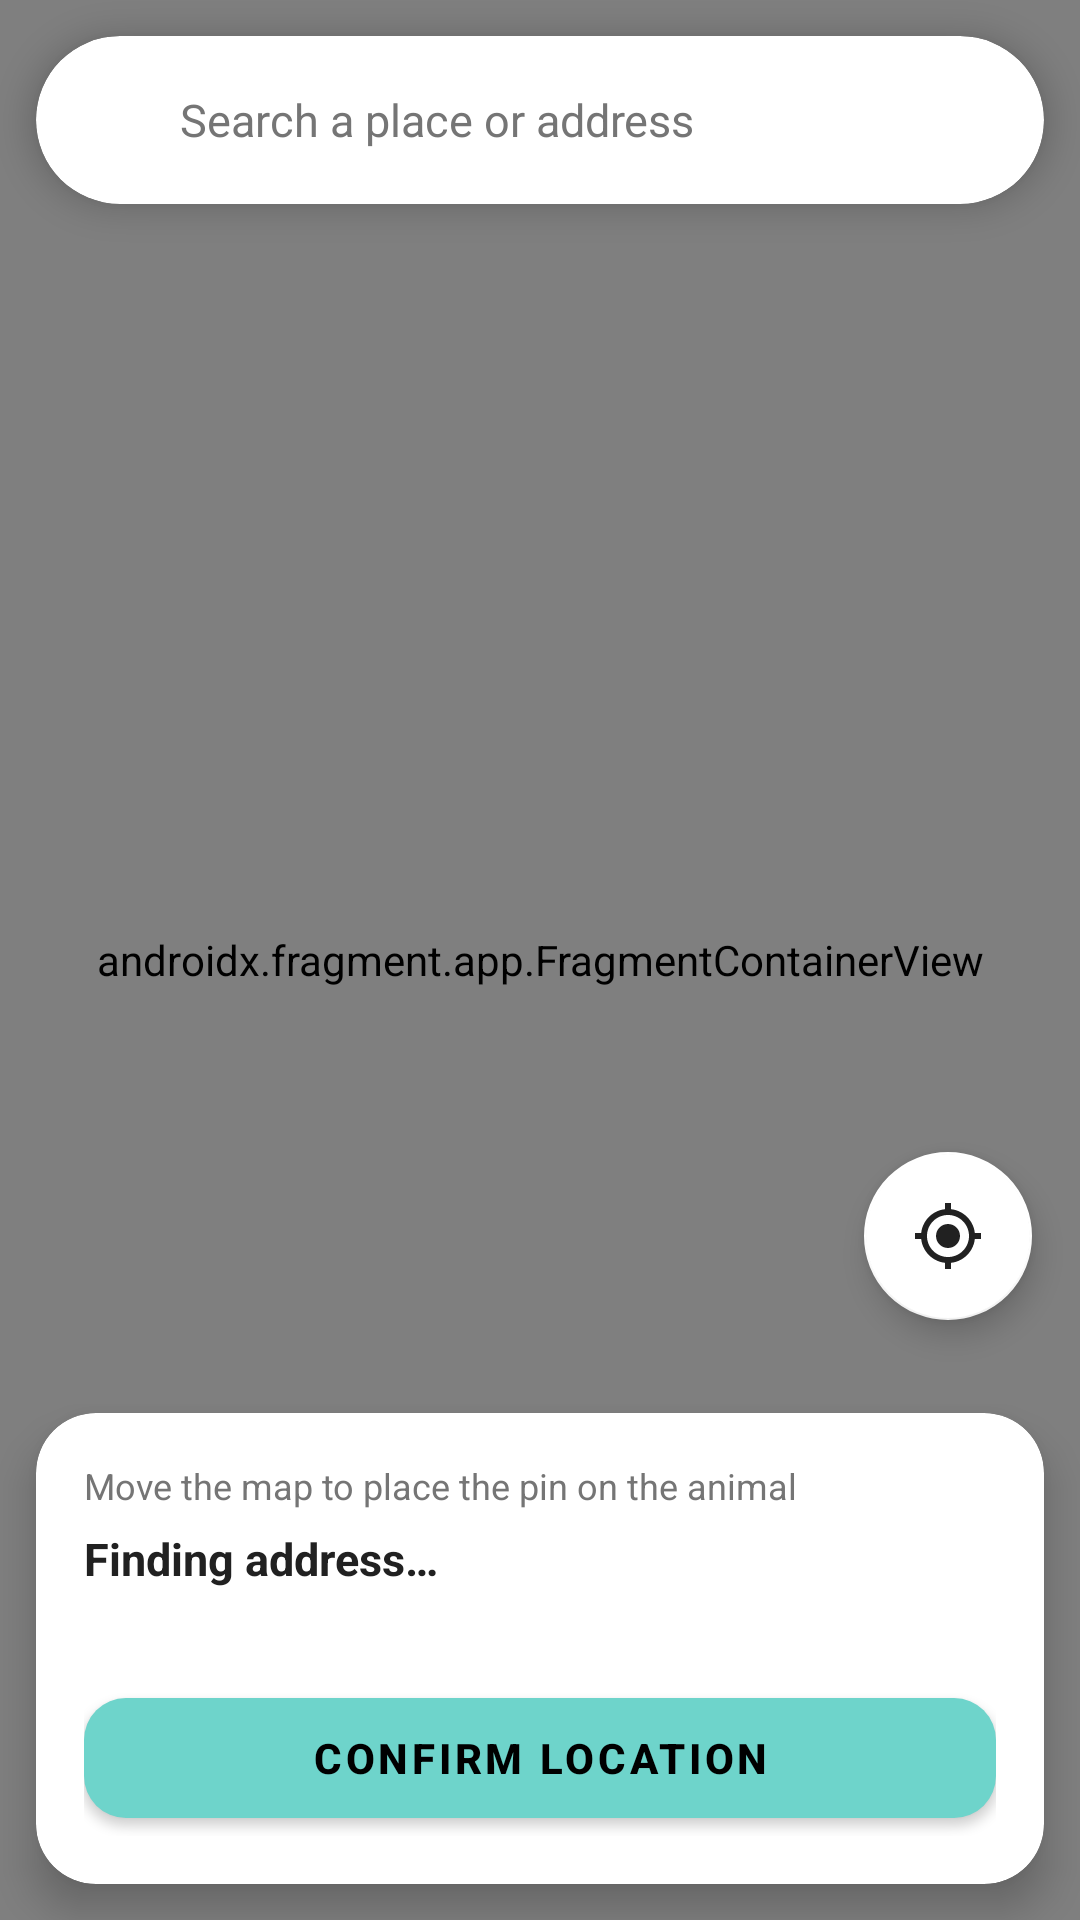

Icons on this 1080px x 1920px Android screen, each with the point to tap as (x=x, y=y):
location: (x=948, y=1236)
